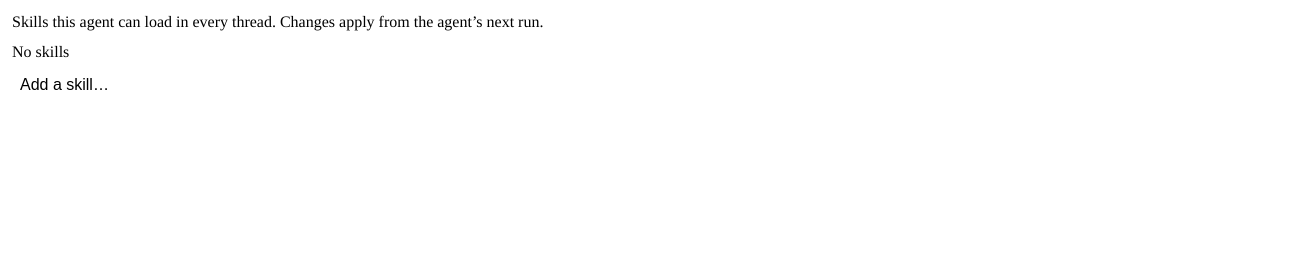
it: AgentSkillsSection › shows an invalid skill with its error but cannot add it
Click the dropdown named "Add to Agent skills" at x=652, y=85, box [12,71,1292,99]
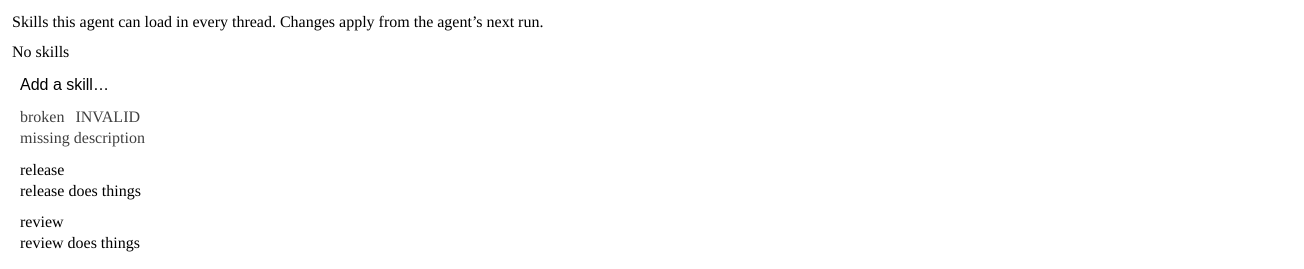
Now the text "missing description" is shown, box [20,130,145,147]
Press the mouse on the option "broken" at x=82, y=128, box [20,109,145,147]
Type "broken" into the dropdown named "Add to Agent skills" at x=652, y=85, box [12,71,1292,99]
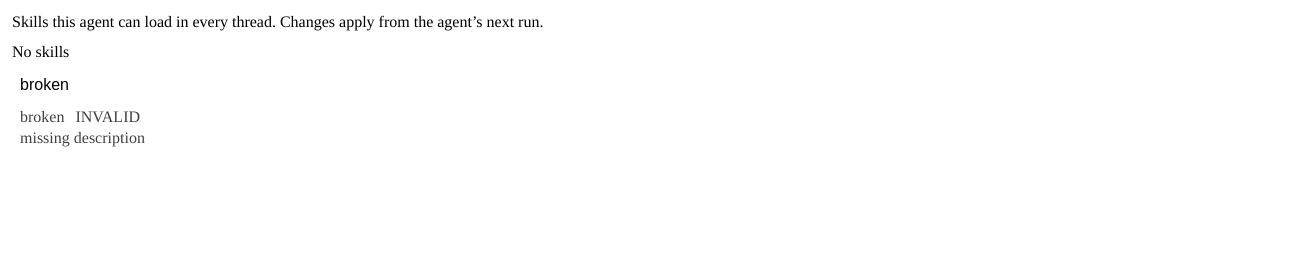
Press ArrowDown in the dropdown named "Add to Agent skills", box [12,71,1292,99]
Press Enter in the dropdown named "Add to Agent skills", box [12,71,1292,99]
Now the dropdown named "Add to Agent skills" does not have attribute aria-activedescendant, box [12,71,1292,99]
